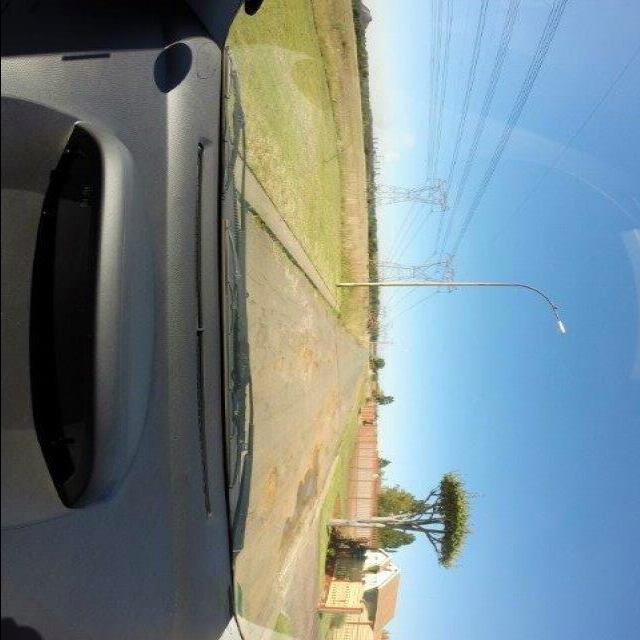lubang: (278, 445, 325, 549), (254, 466, 284, 517), (290, 341, 322, 387)
